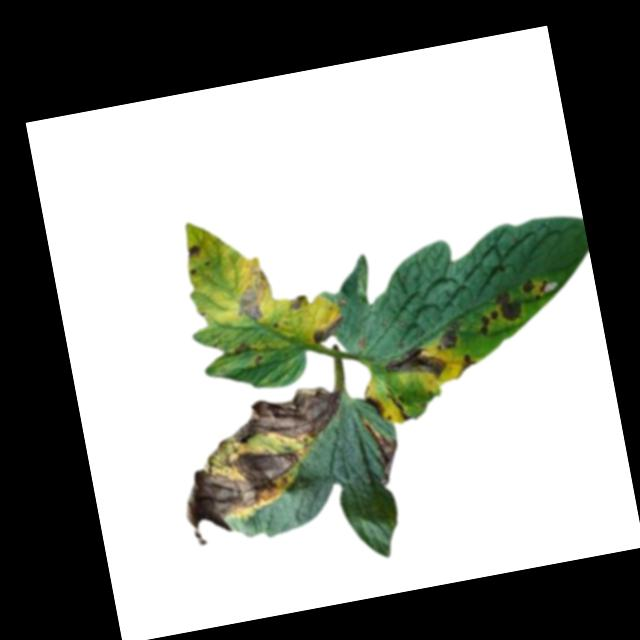Early_blight: (176, 445, 323, 547), (209, 379, 349, 462), (381, 342, 449, 390), (364, 416, 403, 488), (232, 266, 277, 326), (493, 286, 527, 325), (309, 314, 349, 347), (432, 320, 466, 355), (453, 350, 483, 381), (522, 275, 552, 304), (362, 391, 388, 420), (476, 309, 501, 337), (231, 337, 256, 358), (185, 239, 207, 261), (288, 295, 309, 312)
